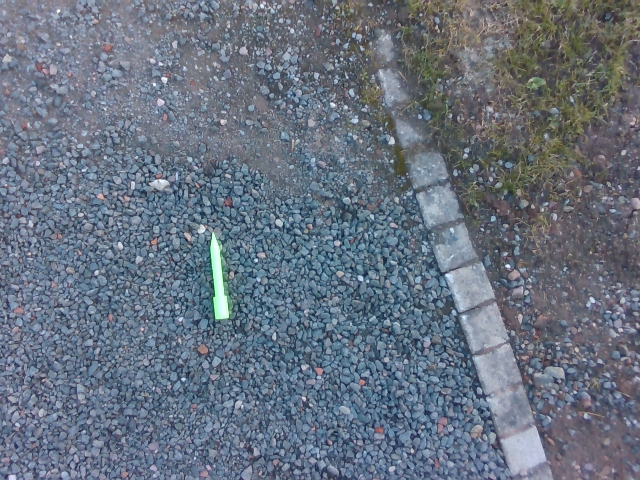Probe: (204, 229, 232, 326)
